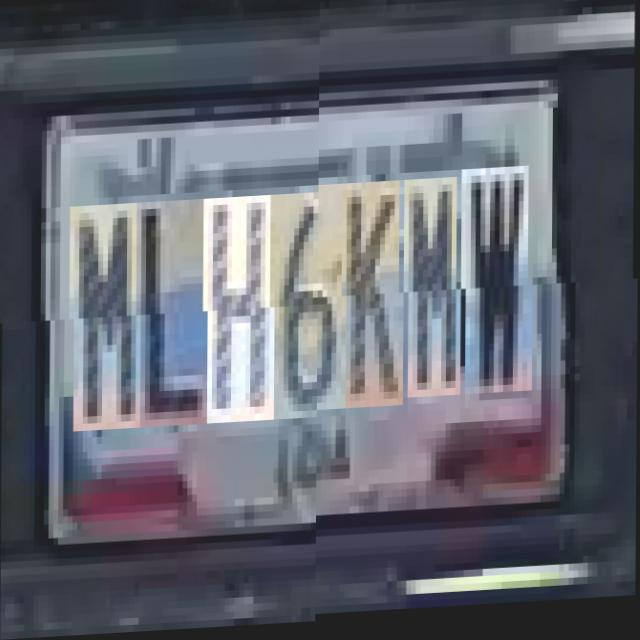6: (274, 195, 348, 423)
H: (208, 198, 276, 426)
K: (346, 192, 405, 420)
L: (140, 202, 208, 430)
M: (74, 205, 142, 432), (408, 190, 462, 410)
W: (466, 179, 534, 407)
